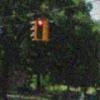traffic lights: (34, 18, 44, 42)
